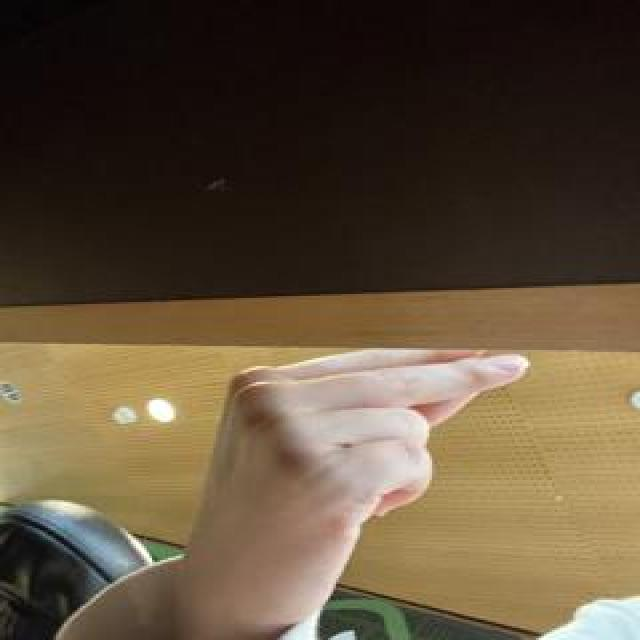H: (186, 342, 530, 640)
